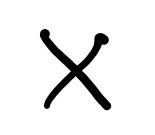mult: (40, 29, 112, 111)
